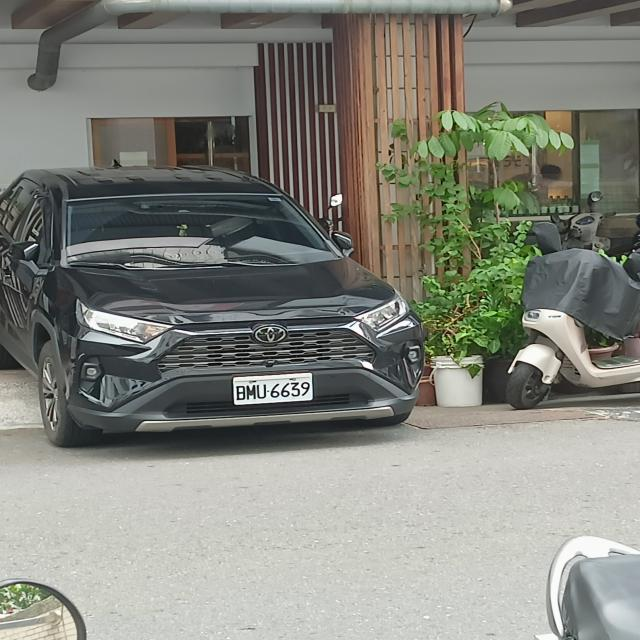license-plate: (232, 372, 310, 405)
